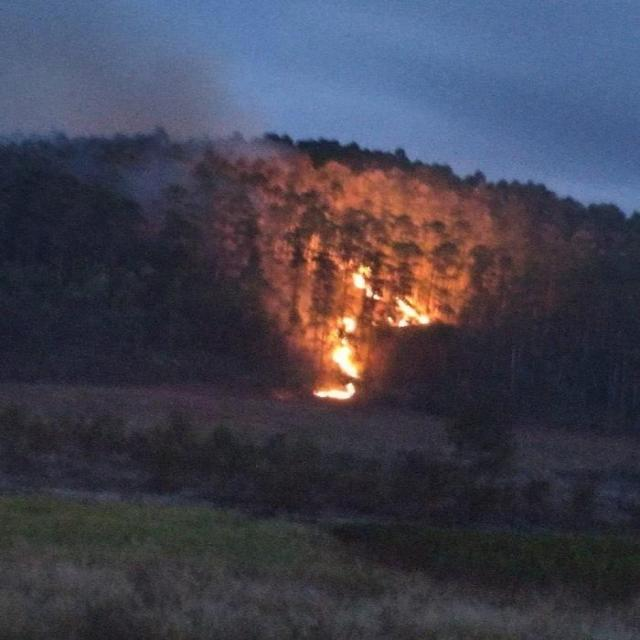Fire: (327, 316, 365, 379), (352, 261, 385, 302), (388, 298, 432, 326), (310, 384, 358, 401)
